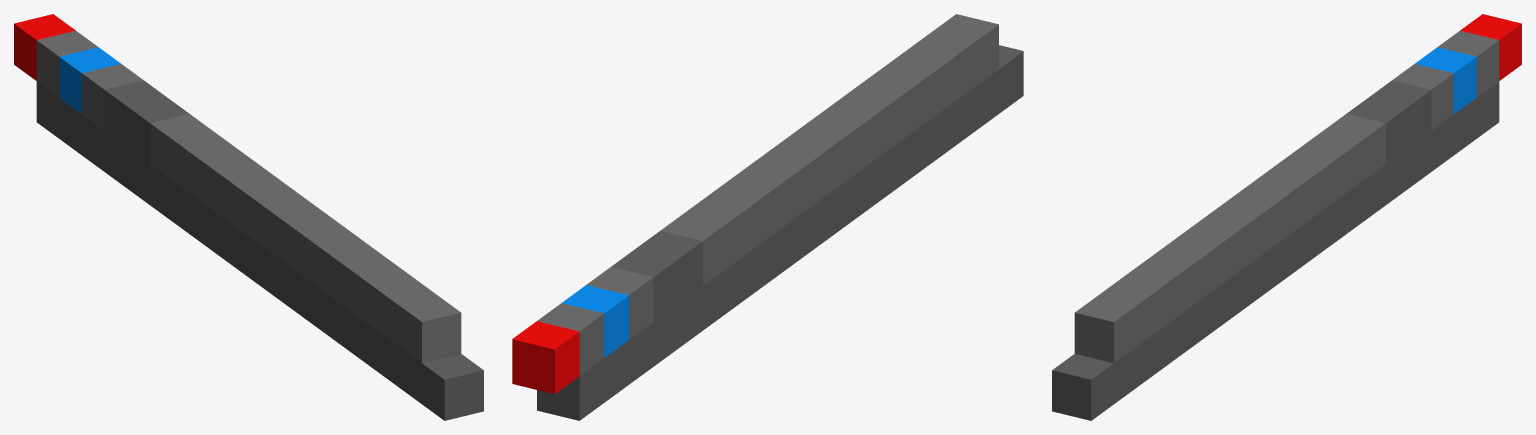
The model's file is Wing-12-MeteorSlicer_TopFin.obj.
3 renders of one model, left to right at view 1: azimuth 30°, elevation 25°; view 2: azimuth 150°, elevation 25°; view 3: azimuth 330°, elevation 25°, orthographic. The views are drawn at different scales.
Parts seen in each view (by area): view 1: MeteorSlicer_TopFin; view 2: MeteorSlicer_TopFin; view 3: MeteorSlicer_TopFin.
Boxes of the visible parts, x1,y1,x2,y2 form: MeteorSlicer_TopFin: [14, 14, 483, 420]; MeteorSlicer_TopFin: [512, 14, 1023, 420]; MeteorSlicer_TopFin: [1052, 14, 1521, 420].
Size of the model in its own units: 0.1 by 0.2 by 1.9.
Materials: 1 (1 with a texture image).
